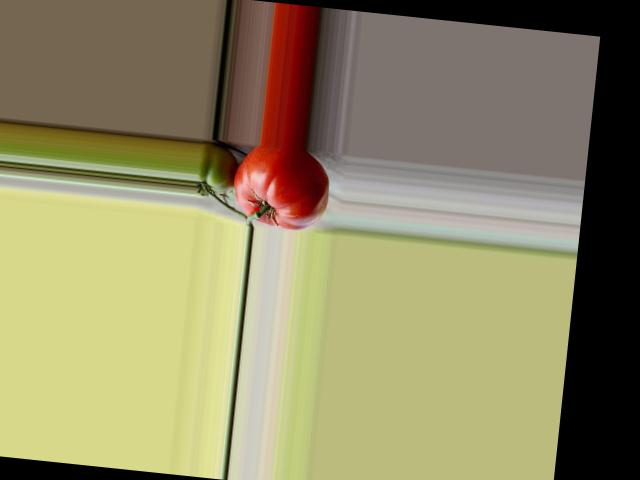tomato: (230, 141, 334, 233)
